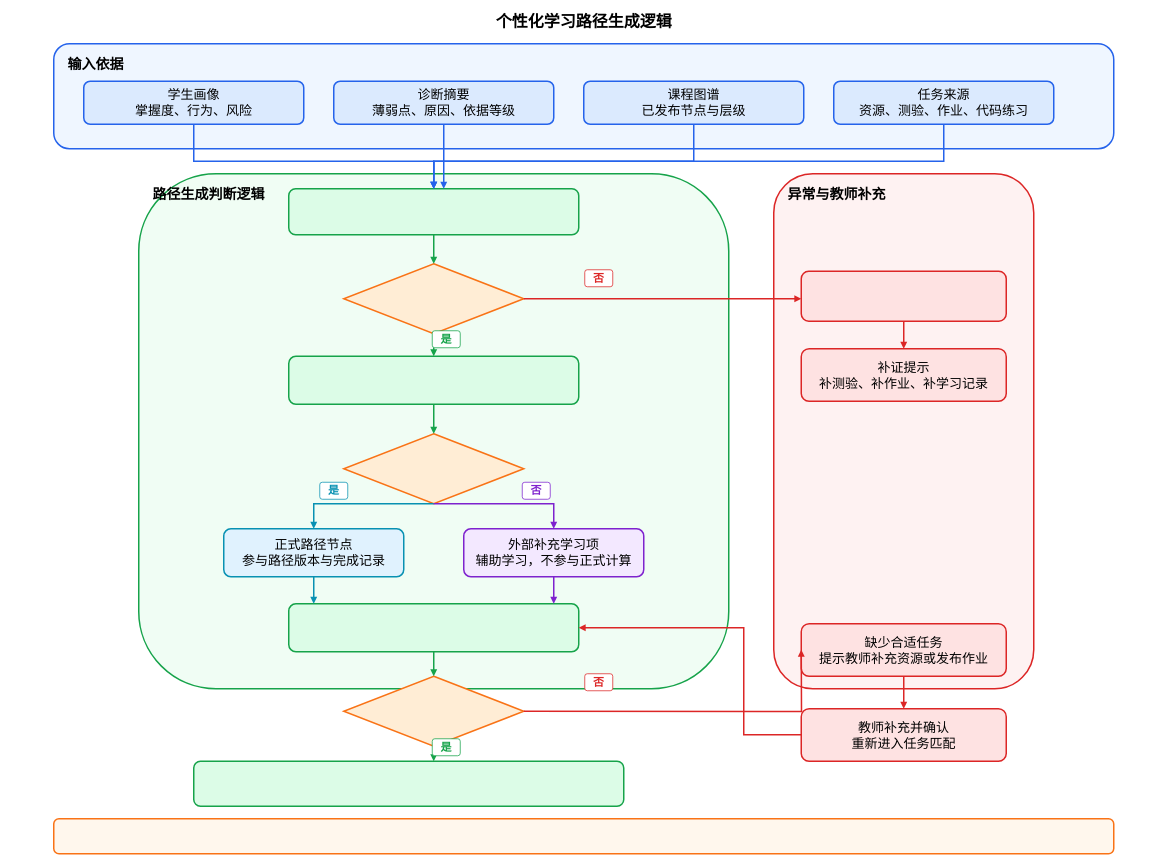
Some shapes in this 1167 by 863 pixel diagram are drawn without their labels. The centre of each missing label's shape, as x and y in pixels:
任务入口 是否可用: [433,711]
依据不足 不生成强补学路径: [903,296]
匹配学习任务入口 资源、小测、已发布作业、代码练习: [433,627]
定位学习目标与薄弱知识点 结合掌握度、原因、证据等级: [433,380]
是否属于 已发布课程图谱: [433,468]
生成路径版本：学习目标、节点顺序、任务入口、调整条件；学生执行后结果回流画像与诊断: [408,783]
触发路径生成 新课初始化 / 诊断后补学 / 节点完成 / 学生目标: [433,211]
诊断依据 是否充分: [433,298]
边界说明：个性化学习路径在学生端生成和执行；教师端只补充资源、作业或提醒并跟踪完成，不替学生端直接生成正式补学路径。: [583,836]
